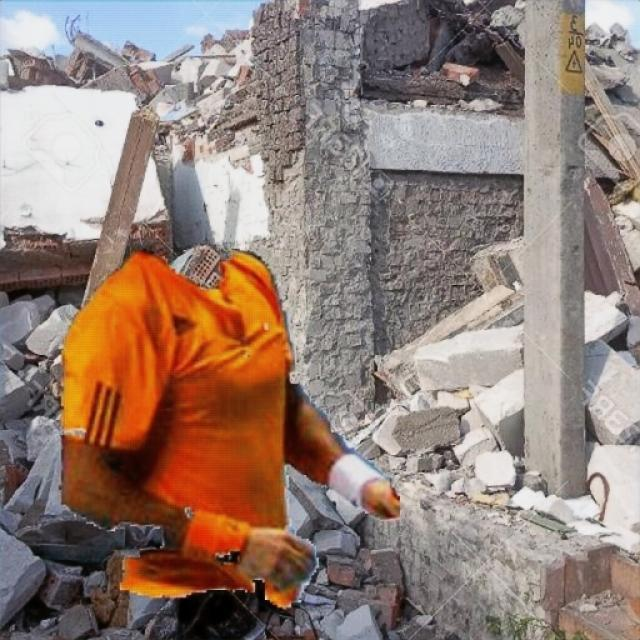Person in Rubble: (59, 249, 399, 609)
